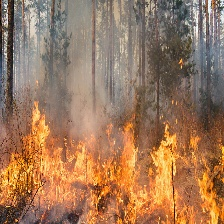fire: (1, 100, 222, 224)
smoke: (39, 7, 136, 135)
